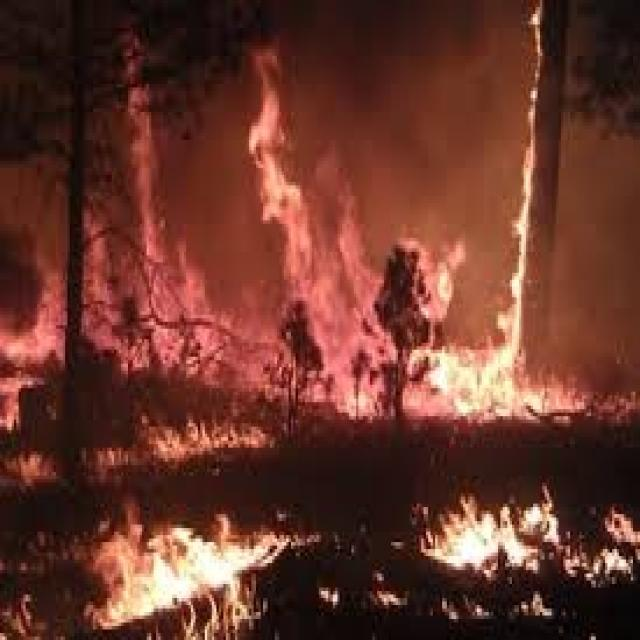Fire: (104, 37, 542, 428), (404, 474, 640, 622), (76, 507, 288, 640), (76, 411, 298, 479), (0, 227, 63, 430), (542, 362, 640, 438), (0, 451, 72, 493)
